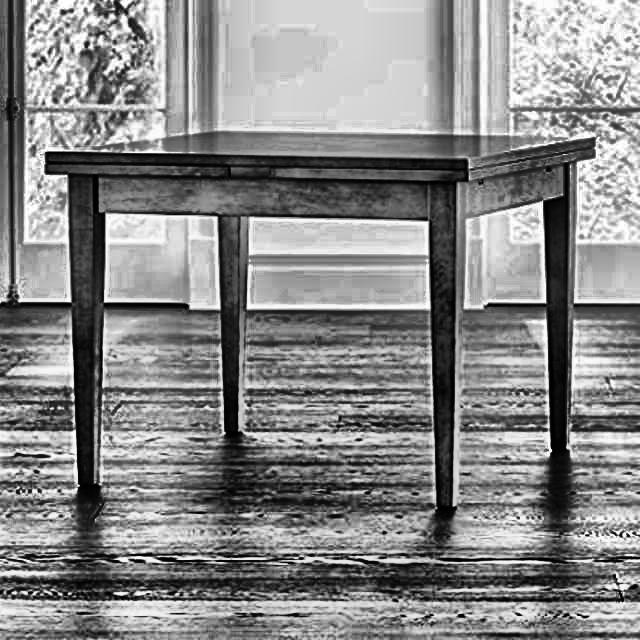mesa: (38, 108, 602, 526)
